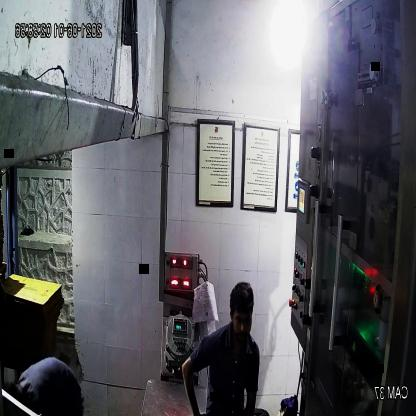no_goggles: (228, 309, 255, 331)
